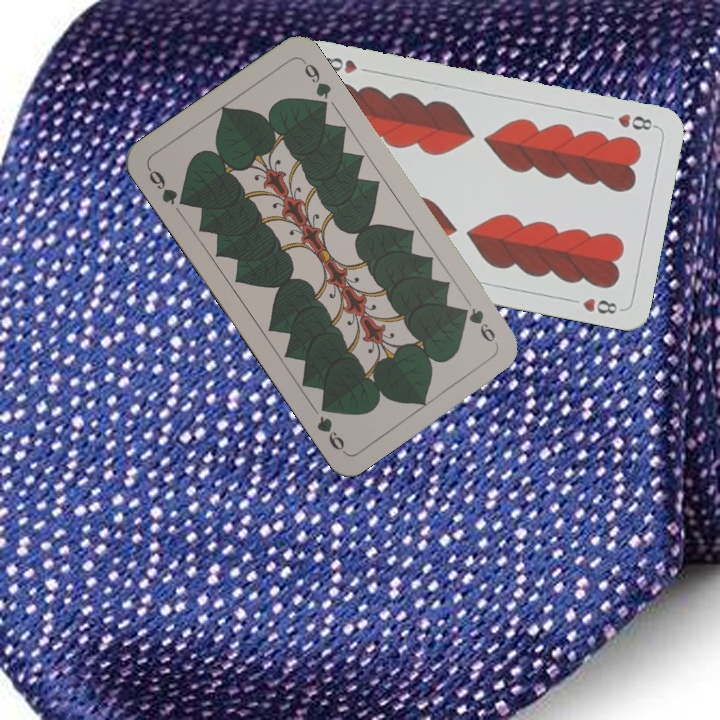G9: (143, 163, 191, 209), (456, 303, 498, 345)
H8: (613, 109, 659, 133)
